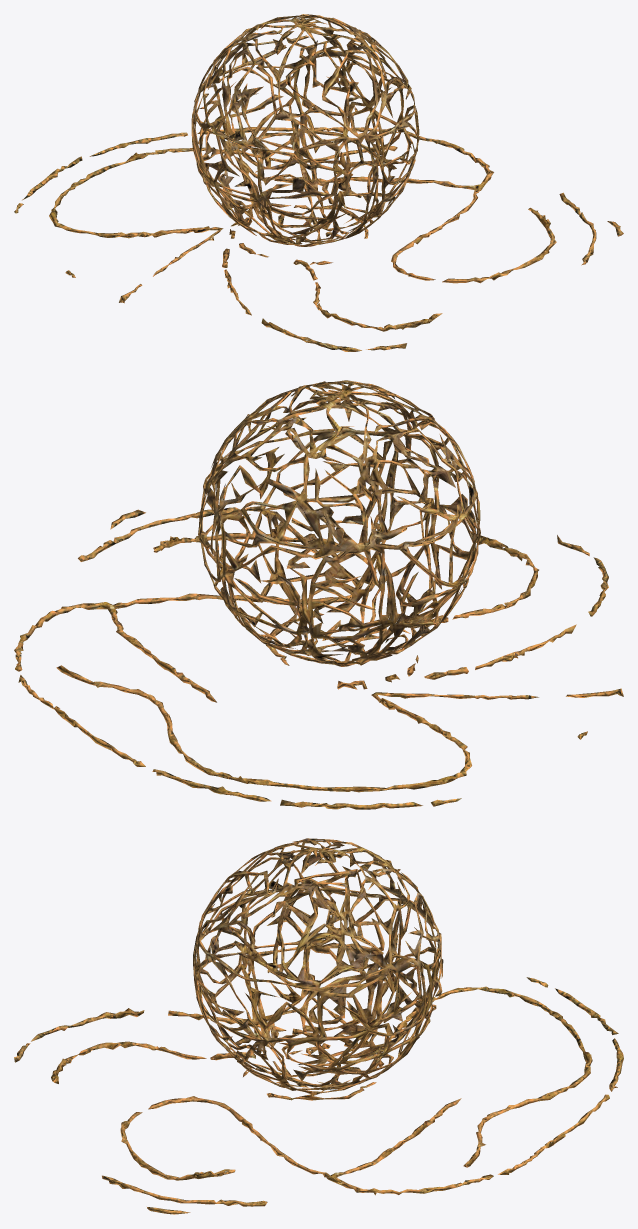
File: klubok.glb
The picture shows the model from 3 angles, top to bottom: view 1: azimuth 30°, elevation 25°; view 2: azimuth 150°, elevation 25°; view 3: azimuth 270°, elevation 25°; orthographic projection. The views are drawn at different scales.
Size of the model in its own units: 1.89 by 0.8363 by 1.97.
Materials: 1 (1 with a texture image).
